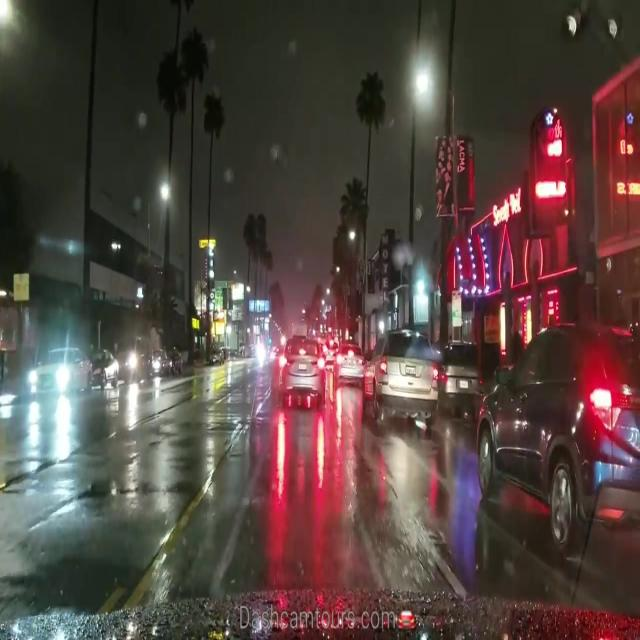Car: (474, 323, 639, 548), (358, 330, 437, 433), (277, 334, 326, 398), (26, 345, 91, 393), (437, 337, 474, 415), (330, 343, 360, 387)
